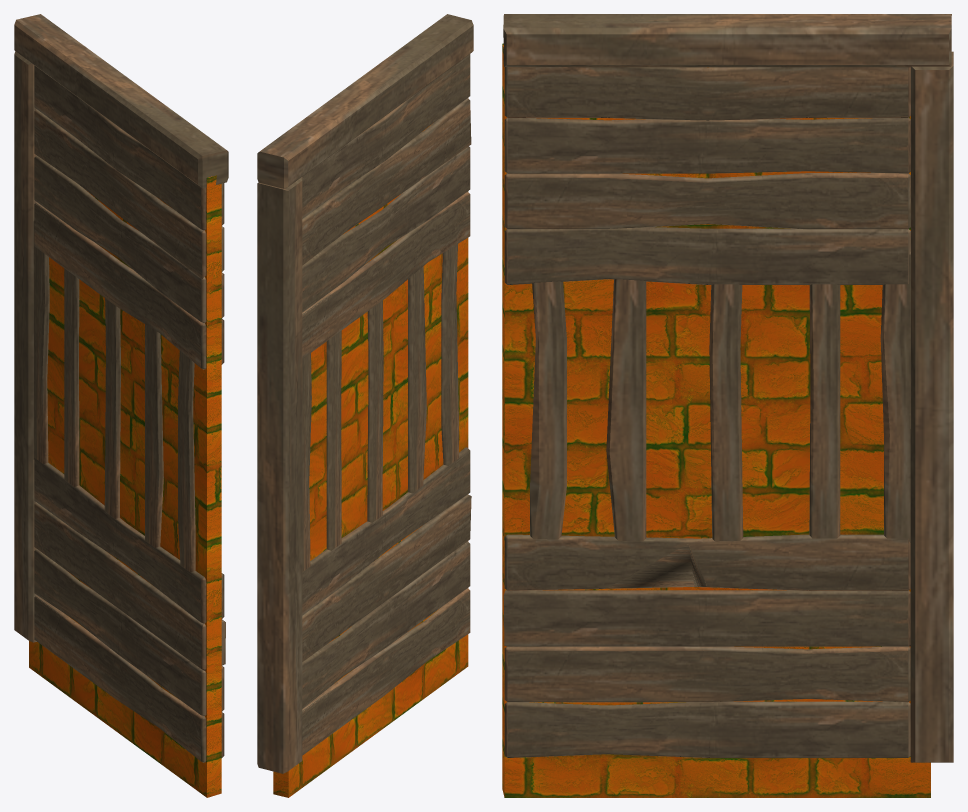
File: SM_wall_21.fbx
3 views of the same model, side by side, from view 1: azimuth 30°, elevation 25°; view 2: azimuth 150°, elevation 25°; view 3: azimuth 270°, elevation 25° (orthographic). The views are drawn at different scales.
Parts seen in each view (by area): view 1: SM_wall_21_LOD0; view 2: SM_wall_21_LOD0; view 3: SM_wall_21_LOD0.
Part boxes in pixels (x1,y1,x2,y2): SM_wall_21_LOD0: (14, 14, 228, 797); SM_wall_21_LOD0: (257, 14, 473, 797); SM_wall_21_LOD0: (502, 14, 953, 797).
Bounding box in the file's own units: 20 × 212 × 400.
2 materials, 2 textured.
